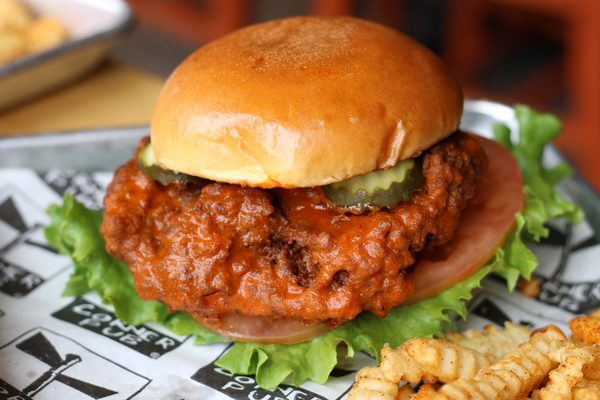soup: (96, 15, 533, 384)
